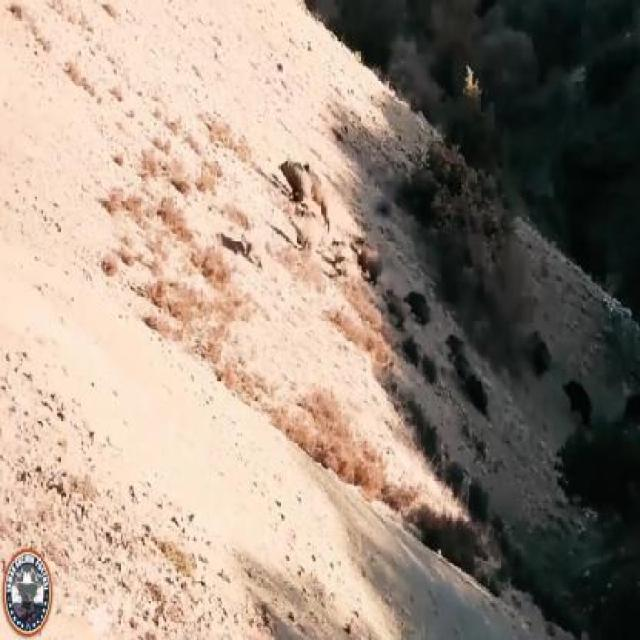Boar: (272, 126, 338, 242), (443, 312, 499, 431), (356, 212, 392, 300), (403, 262, 431, 318)
